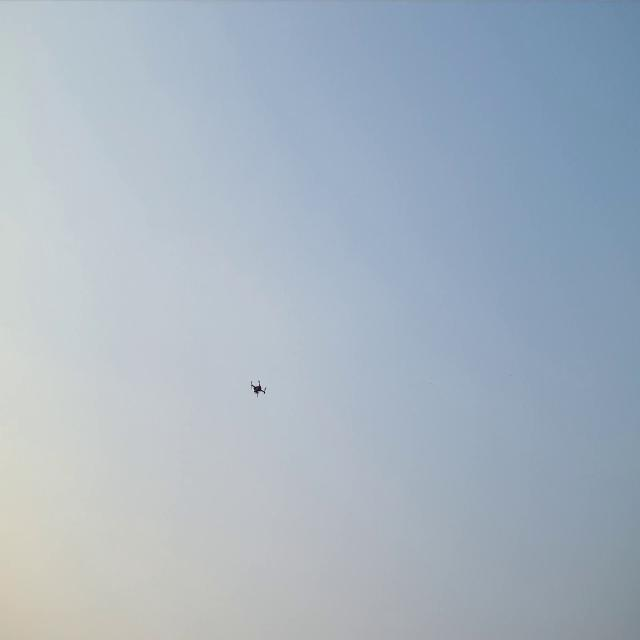UAV: (250, 378, 268, 399)
